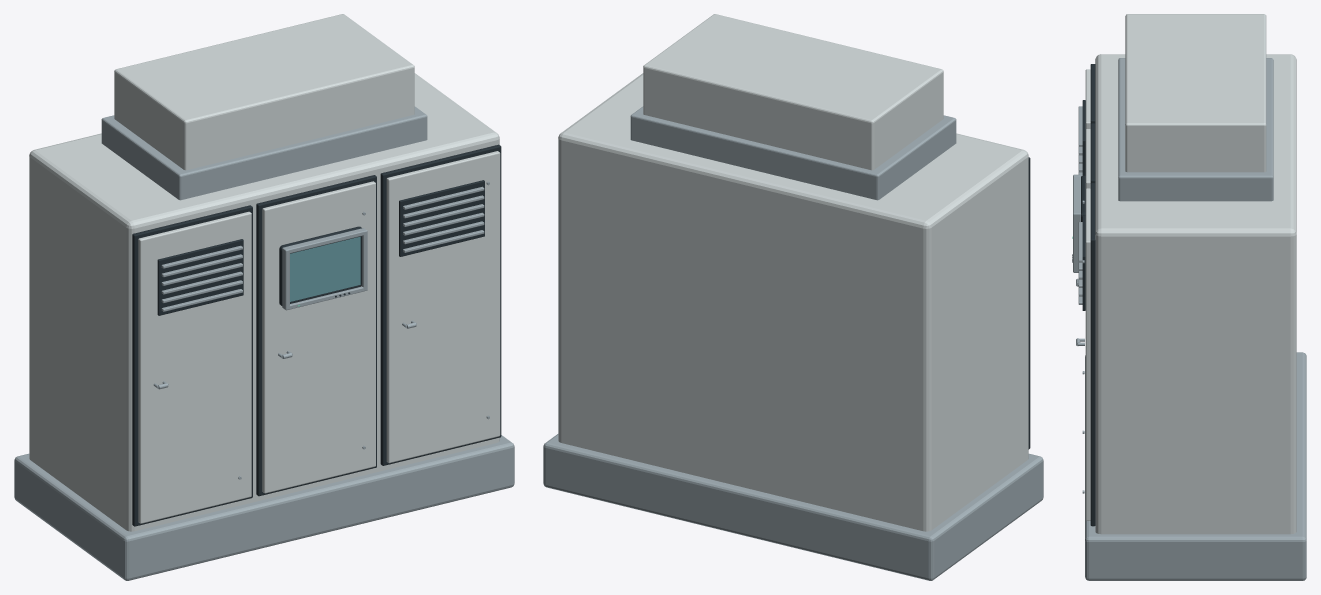
The model's file is RD_AirHandlingUnit.fbx.
3 renders of one model, left to right at view 1: azimuth 30°, elevation 25°; view 2: azimuth 150°, elevation 25°; view 3: azimuth 270°, elevation 25°, orthographic.
Parts seen in each view (by area): view 1: RD_AirHandlingUnit; view 2: RD_AirHandlingUnit; view 3: RD_AirHandlingUnit.
Boxes of the visible parts, x1,y1,x2,y2 form: RD_AirHandlingUnit: [14, 14, 514, 580]; RD_AirHandlingUnit: [543, 14, 1043, 580]; RD_AirHandlingUnit: [1072, 14, 1306, 580].
Size of the model in its own units: 220 by 230 by 116.
